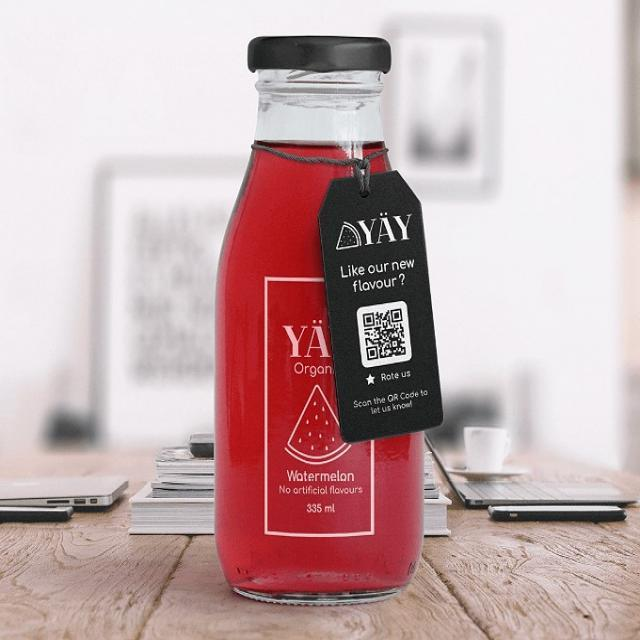qr_code: (363, 308, 406, 361)
